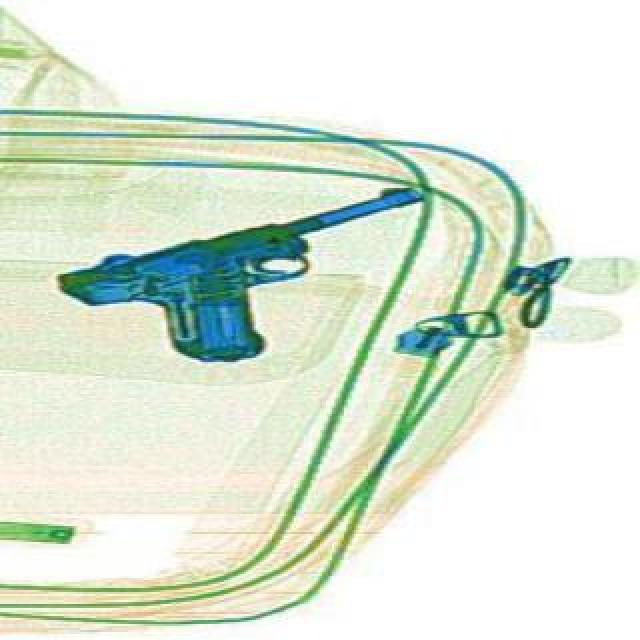gun: (46, 178, 452, 396)
